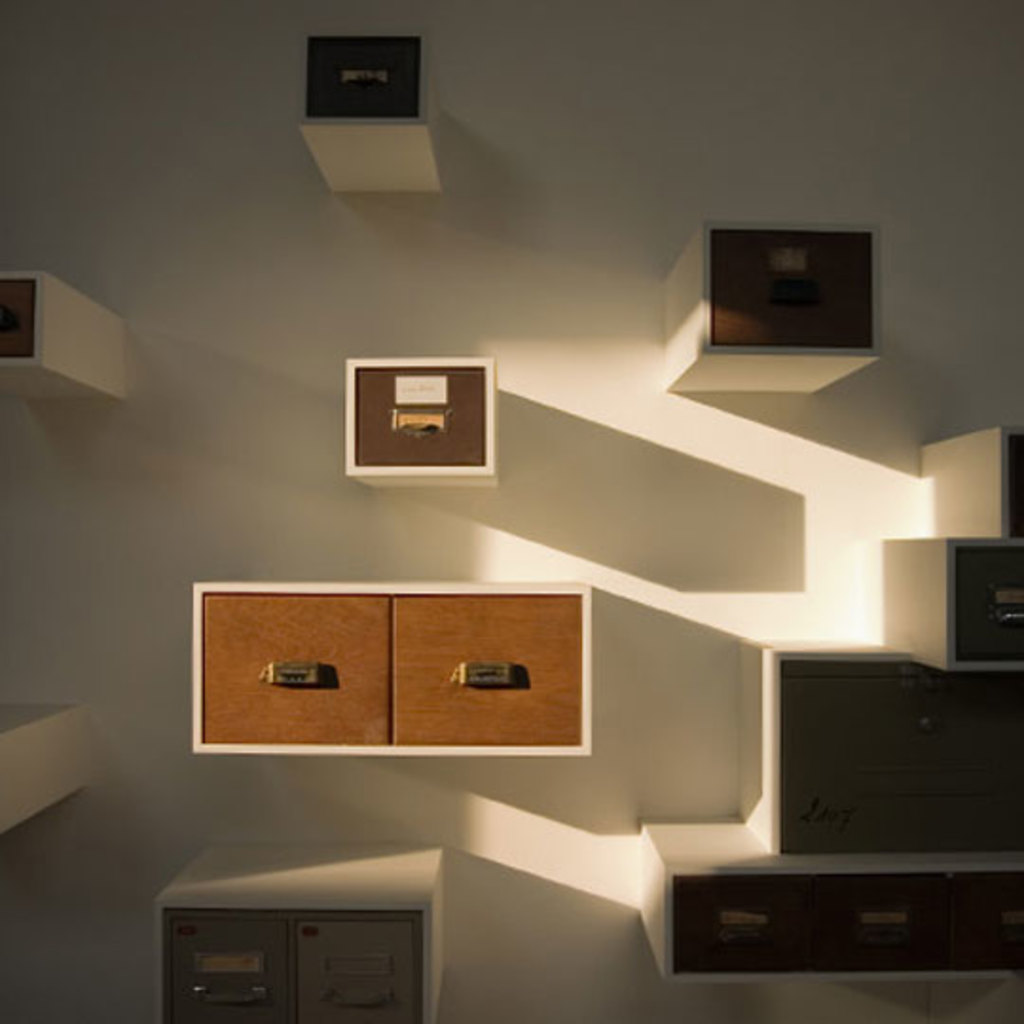cabinet door: (781, 670, 1022, 836), (674, 880, 1024, 978), (393, 607, 582, 737), (209, 603, 390, 738), (710, 230, 870, 347), (170, 913, 291, 1024), (354, 371, 484, 465), (299, 920, 414, 1024), (310, 41, 415, 110), (959, 546, 1024, 650)
handle: (262, 651, 342, 697), (710, 903, 783, 951), (461, 651, 525, 694), (862, 902, 916, 943), (196, 978, 262, 1006), (331, 988, 392, 1018), (397, 402, 455, 432), (1002, 599, 1024, 639), (347, 73, 392, 91)
